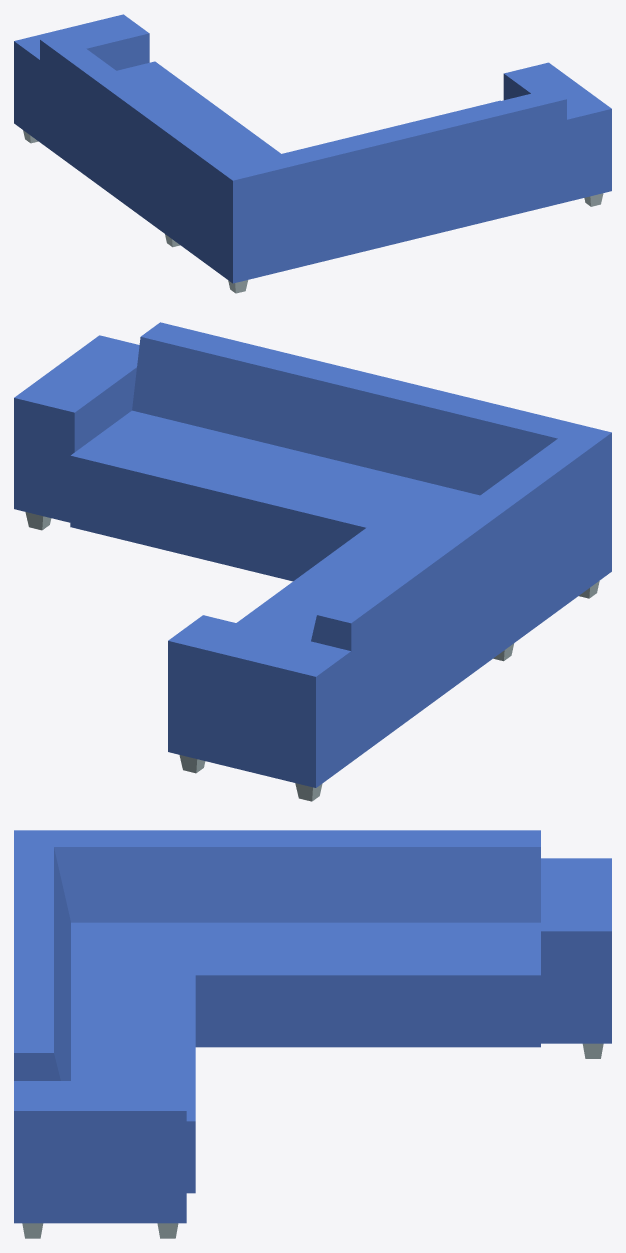
File: LoungeDesignSofaCorner.glb
3 renders of one model, top to bottom at view 1: azimuth 30°, elevation 25°; view 2: azimuth 150°, elevation 25°; view 3: azimuth 270°, elevation 25°, orthographic. The views are drawn at different scales.
Visible parts, largest first — view 1: LoungeDesignSofaCorner; view 2: LoungeDesignSofaCorner; view 3: LoungeDesignSofaCorner.
Boxes of the visible parts, x1,y1,x2,y2 form: LoungeDesignSofaCorner: (14, 14, 611, 293); LoungeDesignSofaCorner: (14, 322, 611, 801); LoungeDesignSofaCorner: (14, 830, 611, 1238).
Bounding box in the file's own units: 3.43 × 1.02 × 3.43.
